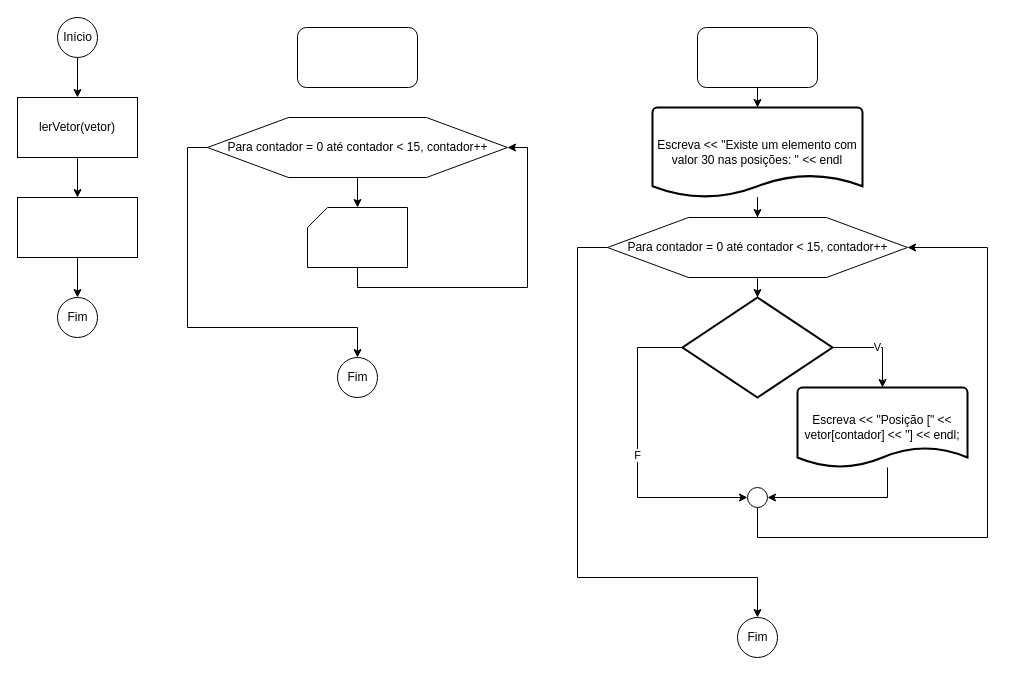
Image size: 1013x675. Some labels were removed from this diagram. Here are the shapes that lost their labels. From the top down, the centre of each, then its label:
At (x=357, y=57): "lerVetor Entradas: vetor[15] Saídas: não tem".
At (x=757, y=57): "verificar(vetor) Entradas: vetor[15] Saídas: não tem".
At (x=77, y=227): "verificar(vetor)".
At (x=357, y=237): "vetor[contador]".
At (x=757, y=347): "(vetor[contador] == 30)".
